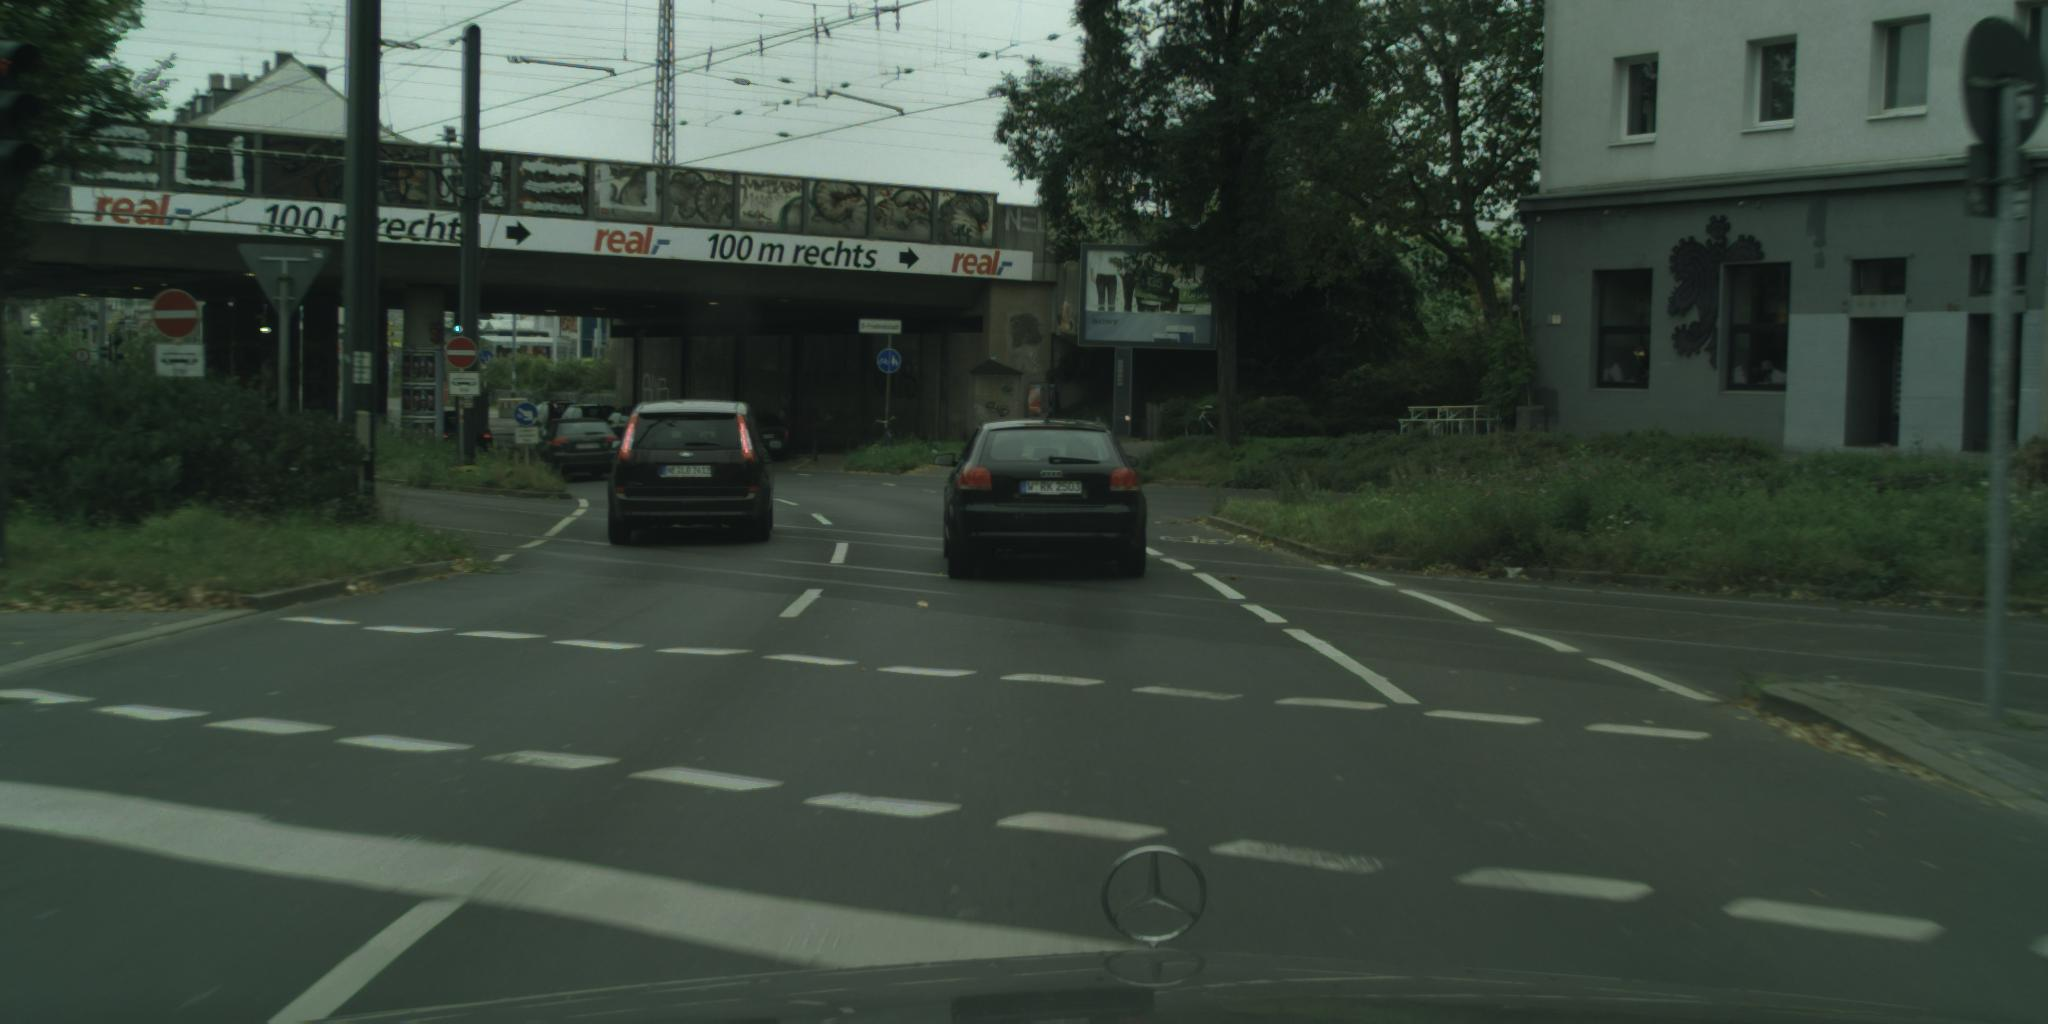bicycle: (1183, 406, 1221, 441)
car: (934, 418, 1149, 580), (600, 398, 784, 549), (528, 417, 627, 481), (428, 410, 494, 465), (521, 398, 585, 439), (744, 411, 792, 464), (555, 404, 622, 431), (601, 409, 644, 444)
